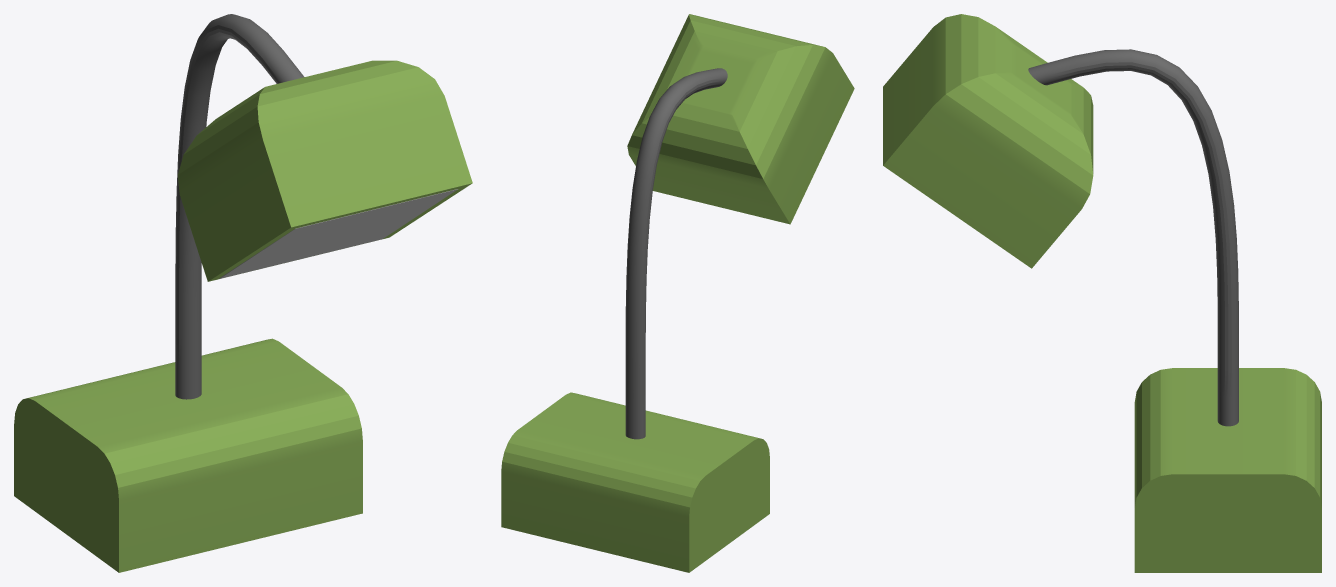
Rendered from Green_Lamp.fbx.
The picture shows the model from 3 angles, left to right: view 1: azimuth 30°, elevation 25°; view 2: azimuth 150°, elevation 25°; view 3: azimuth 270°, elevation 25°; orthographic projection. The views are drawn at different scales.
Visible parts, largest first — view 1: pCylinder4, pCube4; view 2: pCylinder4; view 3: pCylinder4.
Boxes of the visible parts, left/top/right/bottom form: pCylinder4: left=14, top=14, right=472, bottom=572; pCube4: left=219, top=189, right=457, bottom=278; pCylinder4: left=501, top=14, right=854, bottom=572; pCylinder4: left=883, top=14, right=1321, bottom=572.
Size of the model in its own units: 1.34 by 2.79 by 2.34.
